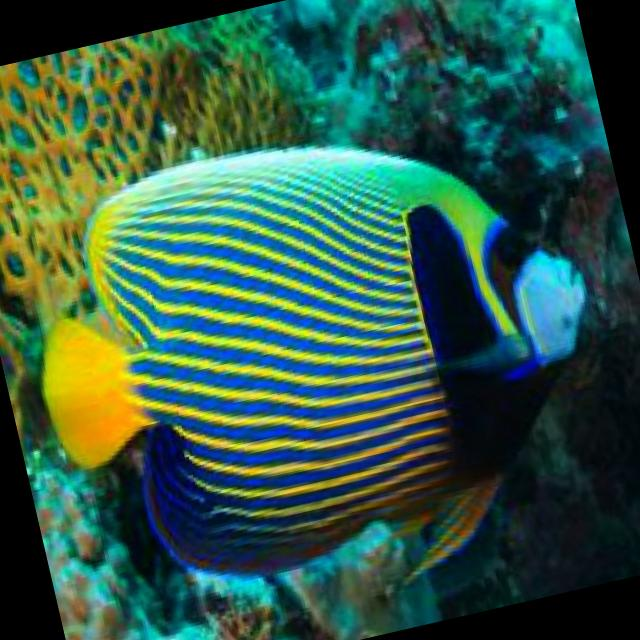AngelFish: (2, 86, 636, 640)
